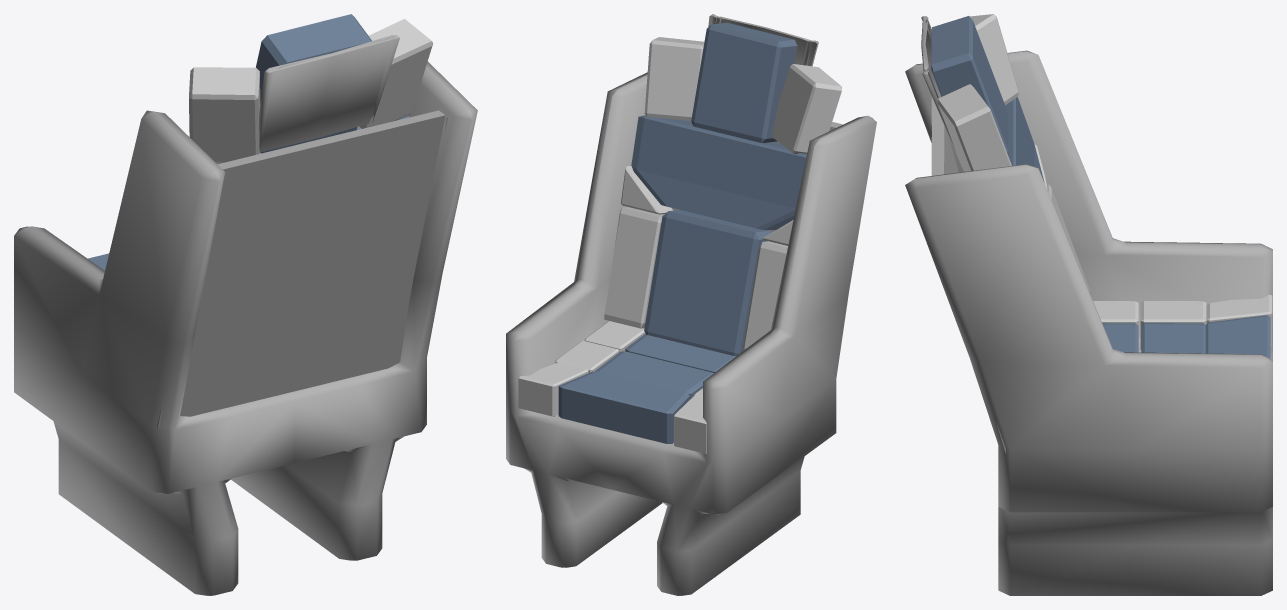
The model's file is sedia2.fbx.
3 renders of one model, left to right at view 1: azimuth 30°, elevation 25°; view 2: azimuth 150°, elevation 25°; view 3: azimuth 270°, elevation 25°, orthographic. The views are drawn at different scales.
Parts seen in each view (by area): view 1: Cube.007, Plane, Plane.002, Cube.008, Cube.006, Cube.004; view 2: Cube.007, Cube.005, Cube.003, Cube.006, Cube, Cube.010, Cube.008, Cube.004, Cube.009, Cube.001, Cube.015, Cube.002 (+5 smaller); view 3: Cube.007, Cube.006, Cube.004, Cube, Cube.001, Cube.008, Cube.014, Cube.005, Cube.016, Plane, Plane.002, Cube.013 (+1 smaller).
Part boxes in pixels (bbox=[...]): Cube.007: bbox=[14, 61, 477, 595]; Plane: bbox=[157, 110, 447, 431]; Plane.002: bbox=[259, 35, 399, 152]; Cube.008: bbox=[189, 67, 260, 163]; Cube.006: bbox=[256, 14, 371, 153]; Cube.004: bbox=[357, 19, 432, 129]; Cube.007: bbox=[506, 72, 876, 595]; Cube.005: bbox=[631, 115, 806, 229]; Cube.003: bbox=[644, 210, 771, 356]; Cube.006: bbox=[691, 22, 797, 142]; Cube: bbox=[558, 371, 690, 443]; Cube.010: bbox=[604, 207, 664, 328]; Cube.008: bbox=[772, 64, 841, 153]; Cube.004: bbox=[644, 37, 704, 120]; Cube.009: bbox=[743, 241, 787, 350]; Cube.001: bbox=[595, 351, 713, 398]; Cube.015: bbox=[518, 362, 588, 416]; Cube.002: bbox=[625, 333, 735, 372]; Cube.007: bbox=[905, 50, 1272, 595]; Cube.006: bbox=[931, 16, 1008, 155]; Cube.004: bbox=[937, 84, 1011, 171]; Cube: bbox=[1205, 315, 1270, 358]; Cube.001: bbox=[1141, 323, 1205, 353]; Cube.008: bbox=[969, 14, 1018, 105]; Cube.014: bbox=[1140, 301, 1206, 349]; Cube.005: bbox=[1005, 97, 1044, 182]; Cube.016: bbox=[1206, 295, 1272, 347]; Plane: bbox=[931, 96, 1005, 453]; Plane.002: bbox=[921, 16, 958, 158]; Cube.013: bbox=[1093, 301, 1138, 325].
Size of the model in its own units: 76.49 by 150 by 95.68.
